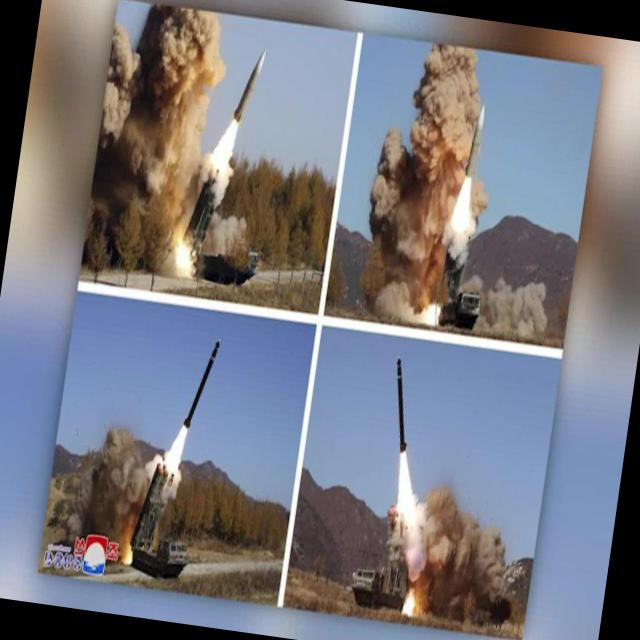rocket: (364, 347, 443, 534), (154, 326, 229, 497), (212, 26, 269, 167)
